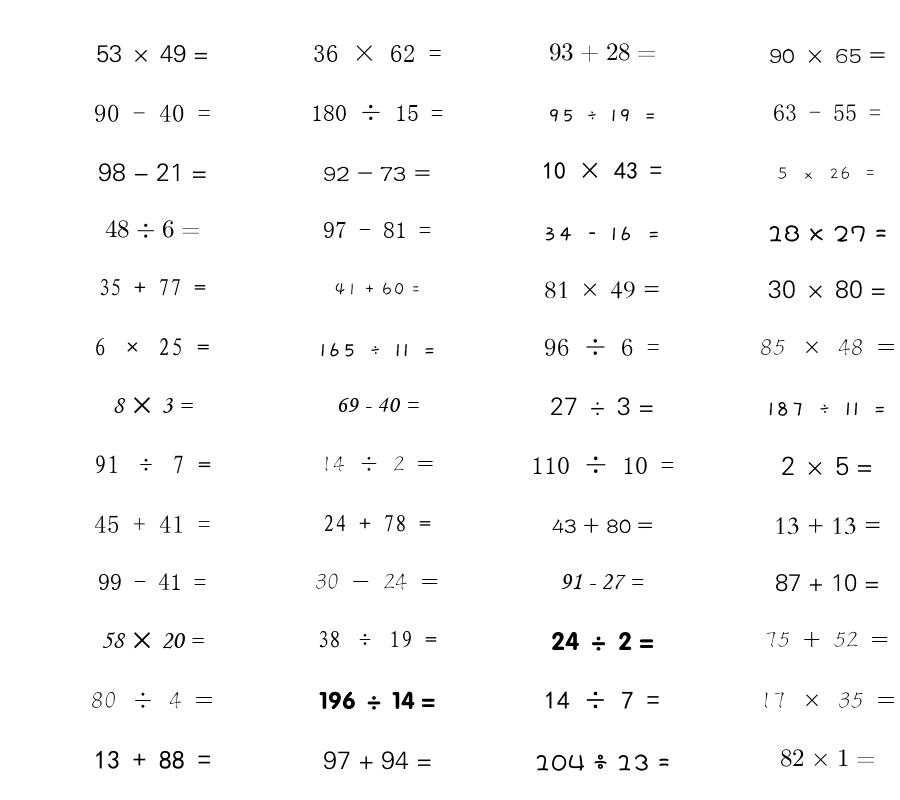MQ: (531, 456, 674, 474), (760, 338, 895, 356), (534, 754, 670, 771), (760, 692, 895, 709), (311, 104, 443, 121), (768, 280, 886, 299), (94, 455, 211, 474), (94, 750, 211, 769), (319, 691, 435, 710), (91, 691, 213, 709), (313, 45, 442, 62), (542, 162, 662, 180), (317, 630, 437, 648), (549, 43, 656, 63), (315, 573, 439, 590), (765, 631, 889, 648), (94, 104, 211, 122), (94, 515, 211, 533), (544, 281, 660, 299), (94, 338, 210, 356), (544, 338, 660, 356), (544, 691, 660, 709), (98, 163, 207, 182), (323, 751, 432, 770), (551, 631, 654, 651), (767, 225, 887, 242), (96, 45, 209, 63), (550, 397, 654, 416), (98, 278, 206, 296), (323, 514, 431, 532), (774, 517, 881, 535), (775, 574, 880, 592), (781, 456, 873, 476), (773, 104, 881, 121), (98, 573, 206, 590), (321, 456, 434, 472), (767, 401, 887, 416), (543, 226, 661, 241), (769, 48, 886, 63), (101, 632, 204, 649), (323, 222, 431, 238), (552, 517, 653, 534), (105, 220, 200, 238), (780, 749, 875, 767), (319, 343, 436, 357), (323, 166, 431, 181), (547, 109, 657, 122), (560, 573, 644, 590), (777, 166, 877, 180), (112, 397, 193, 414), (336, 397, 419, 412), (334, 282, 421, 296)
